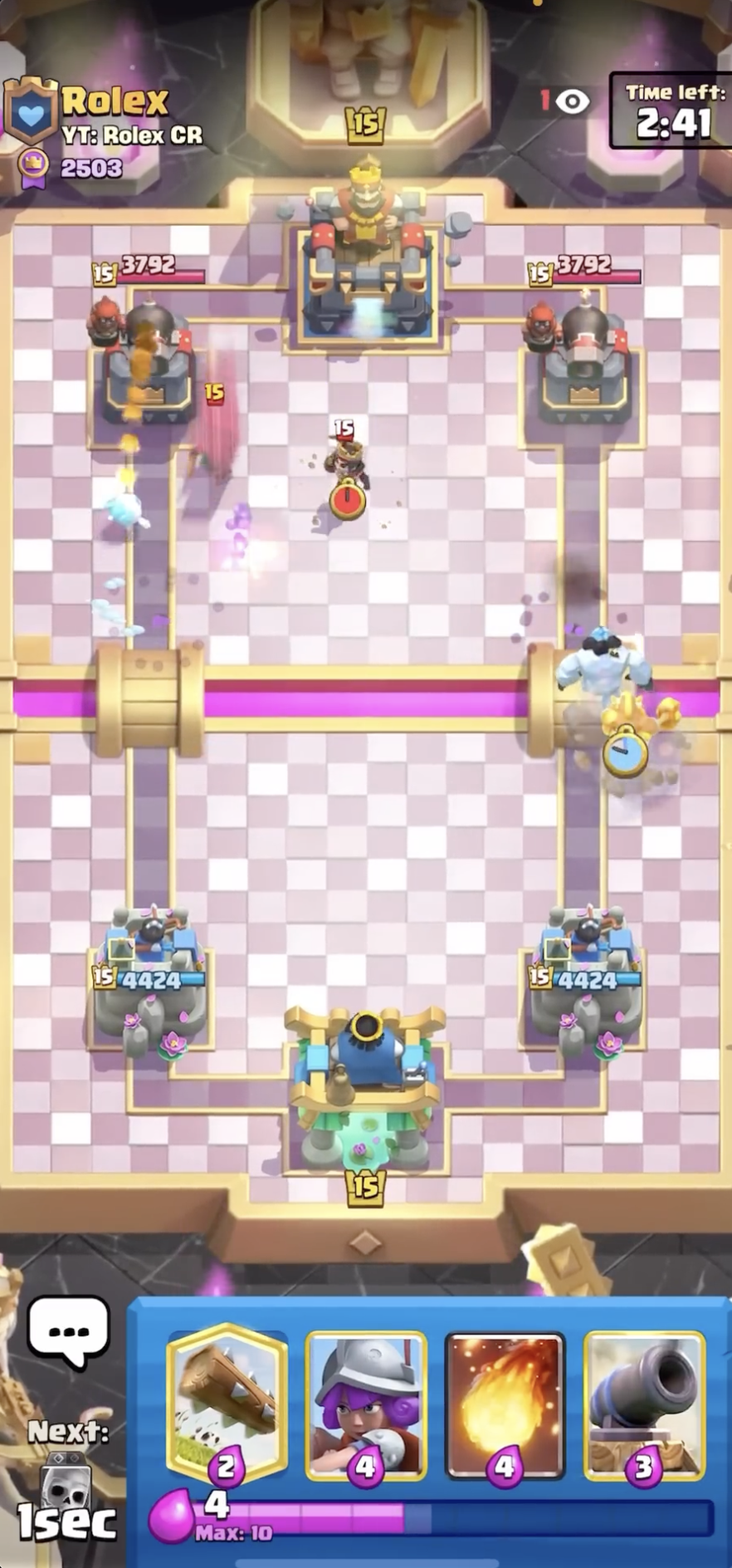hog_rider: (595, 686, 690, 768)
ice_golem: (557, 617, 658, 710)
ice_spirit: (94, 486, 164, 538)
